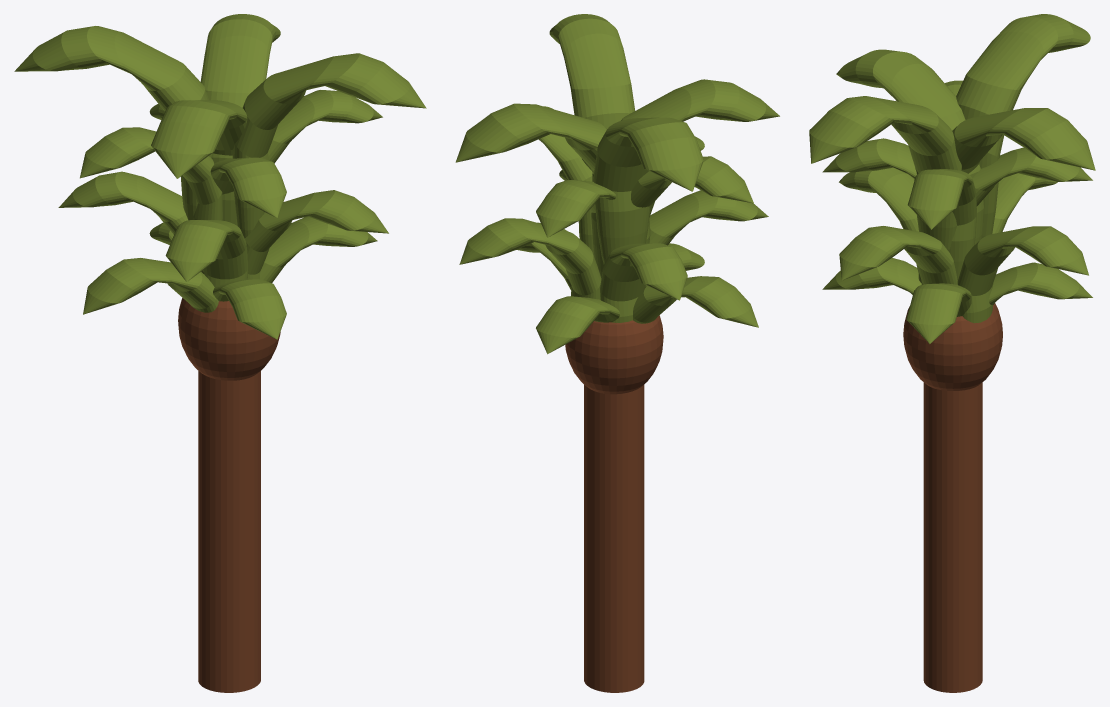
Rendered from palm_little.glb.
3 renders of one model, left to right at view 1: azimuth 30°, elevation 25°; view 2: azimuth 150°, elevation 25°; view 3: azimuth 270°, elevation 25°, orthographic. The views are drawn at different scales.
Parts seen in each view (by area): view 1: Leaves, Base; view 2: Leaves, Base; view 3: Leaves, Base.
Part boxes in pixels (bbox=[...]): Leaves: bbox=[14, 14, 426, 339]; Base: bbox=[178, 298, 280, 692]; Leaves: bbox=[455, 14, 779, 354]; Base: bbox=[565, 315, 663, 692]; Leaves: bbox=[809, 14, 1095, 343]; Base: bbox=[903, 303, 1002, 692].
Bounding box in the file's own units: 8.88 × 18.59 × 7.84.
2 materials, 2 textured.
